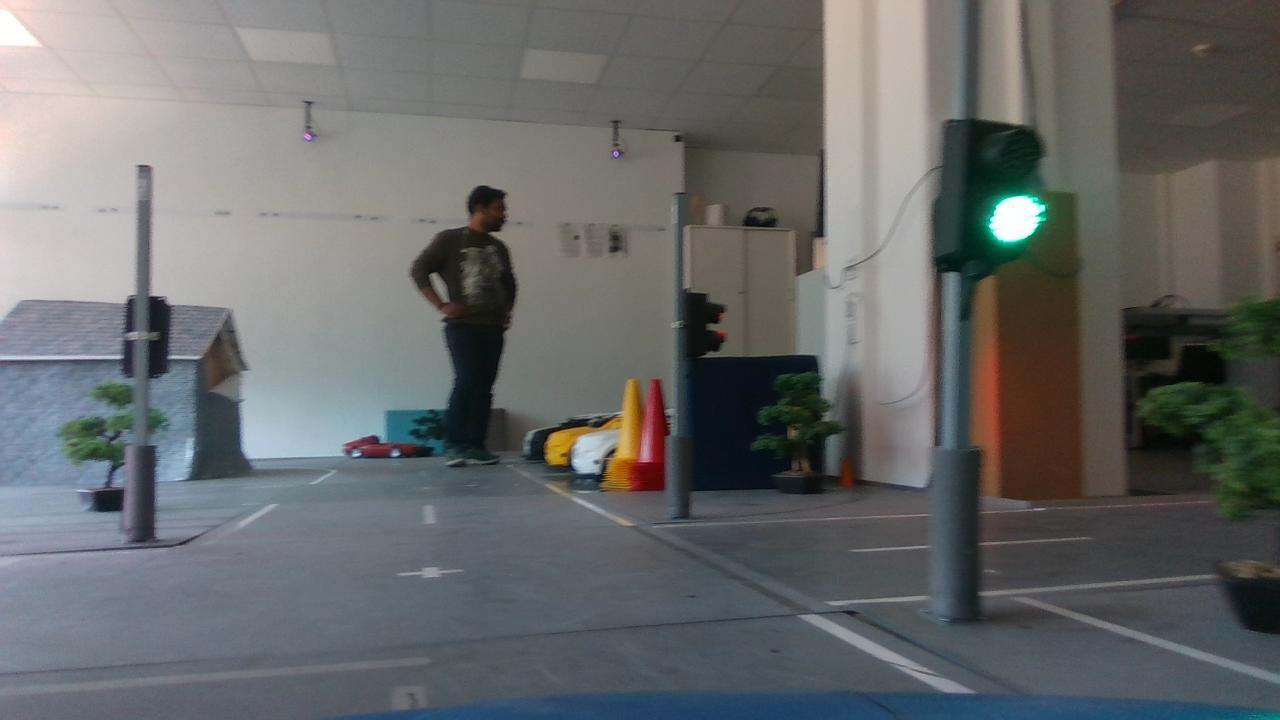traffic_light_green: (927, 103, 1063, 280)
